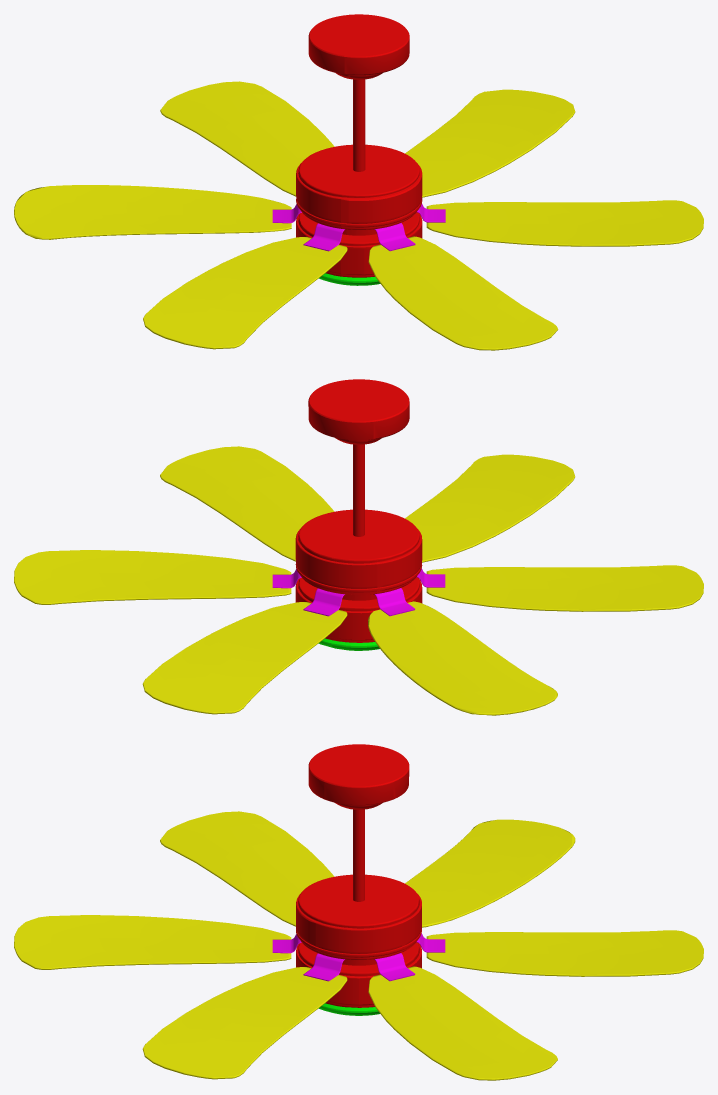
Rendered from OM_Fan.fbx.
The picture shows the model from 3 angles, top to bottom: view 1: azimuth 30°, elevation 25°; view 2: azimuth 150°, elevation 25°; view 3: azimuth 270°, elevation 25°; orthographic projection.
Visible parts, largest first — view 1: Om_Fan_Wood, Om_Fan_Metal, Om_Fan_White; view 2: Om_Fan_Wood, Om_Fan_Metal, Om_Fan_White; view 3: Om_Fan_Wood, Om_Fan_Metal, Om_Fan_White.
Boxes of the visible parts, bbox=[...] form: Om_Fan_Wood: bbox=[14, 81, 703, 350]; Om_Fan_Metal: bbox=[296, 14, 422, 277]; Om_Fan_White: bbox=[272, 204, 445, 251]; Om_Fan_Wood: bbox=[14, 446, 703, 715]; Om_Fan_Metal: bbox=[295, 379, 422, 642]; Om_Fan_White: bbox=[272, 568, 445, 616]; Om_Fan_Wood: bbox=[14, 811, 703, 1080]; Om_Fan_Metal: bbox=[296, 744, 421, 1007]; Om_Fan_White: bbox=[272, 933, 445, 981].
Bounding box in the file's own units: 7.41 × 3.06 × 8.08.
